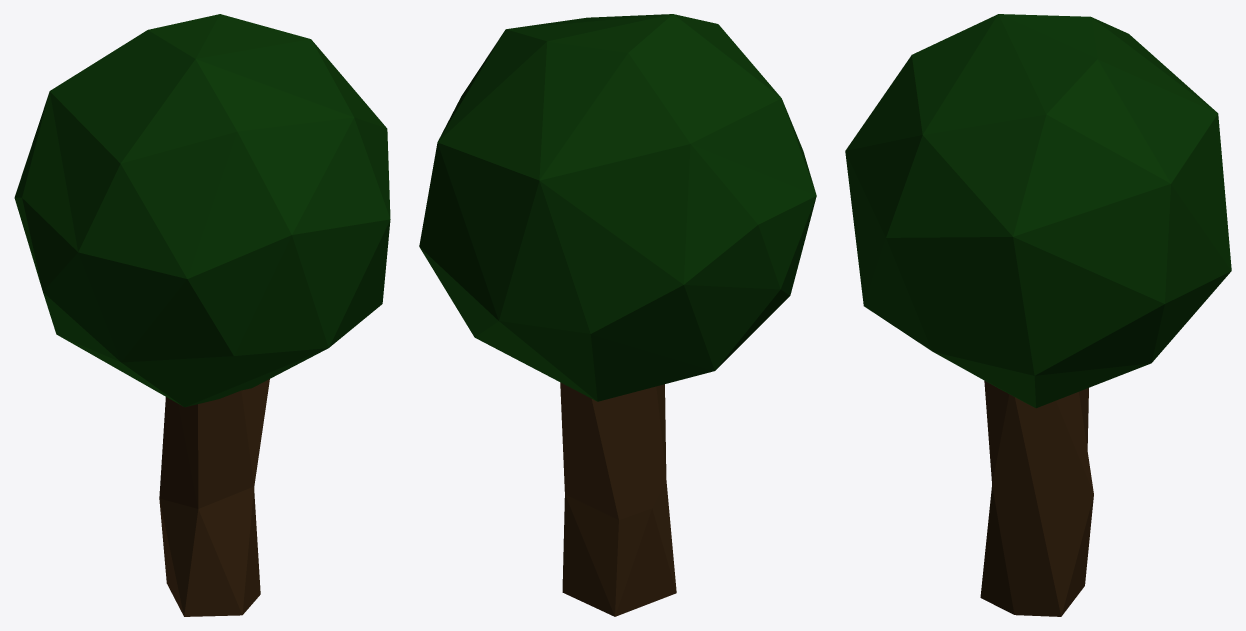
File: Oak.fbx
3 views of the same model, side by side, from view 1: azimuth 30°, elevation 25°; view 2: azimuth 150°, elevation 25°; view 3: azimuth 270°, elevation 25° (orthographic). The views are drawn at different scales.
Parts seen in each view (by area): view 1: Trunk; view 2: Trunk; view 3: Trunk.
Part boxes in pixels (x1,y1,x2,y2): Trunk: (14,14,390,616); Trunk: (419,14,816,616); Trunk: (845,14,1231,616).
Size of the model in its own units: 6.21 by 10.12 by 6.28.
